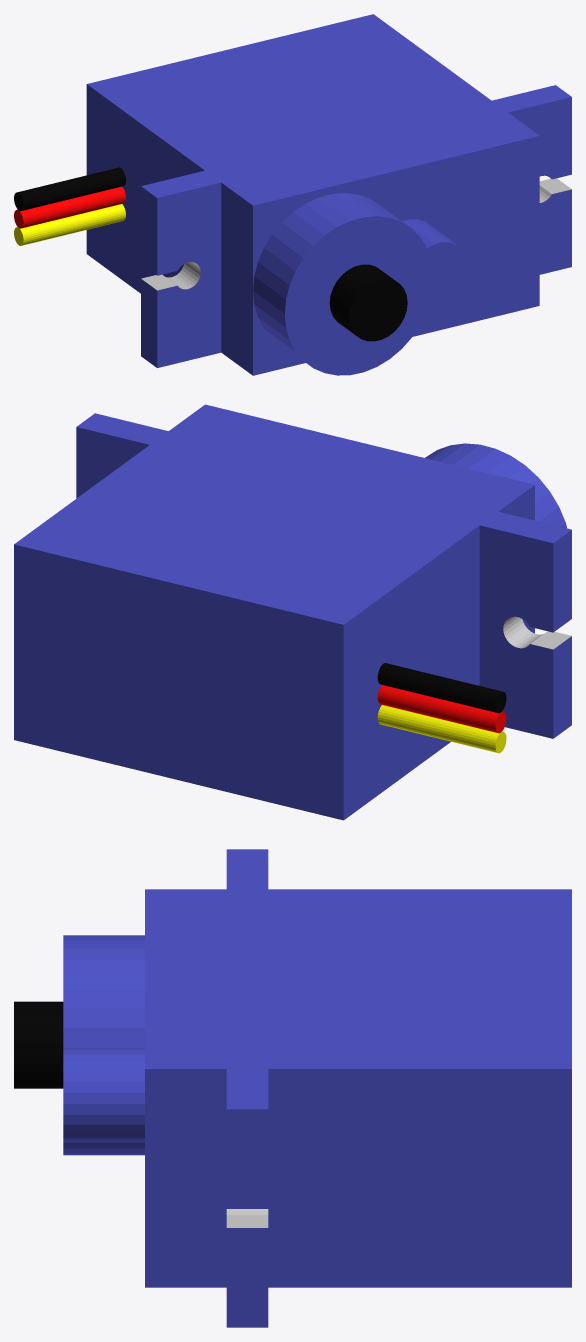
Rendered from servo-sg92r.glb.
3 views of the same model, one above another, from view 1: azimuth 30°, elevation 25°; view 2: azimuth 150°, elevation 25°; view 3: azimuth 270°, elevation 25° (orthographic). The views are drawn at different scales.
Size of the model in its own units: 0.0354 by 0.0127 by 0.0294.
